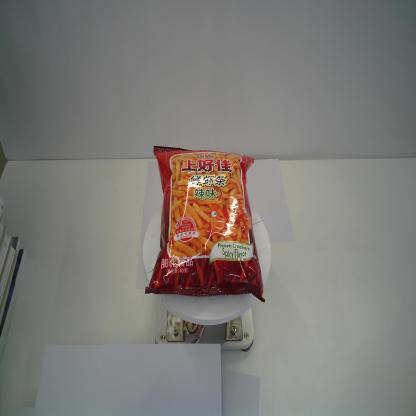Puffed Food: (144, 144, 266, 304)
